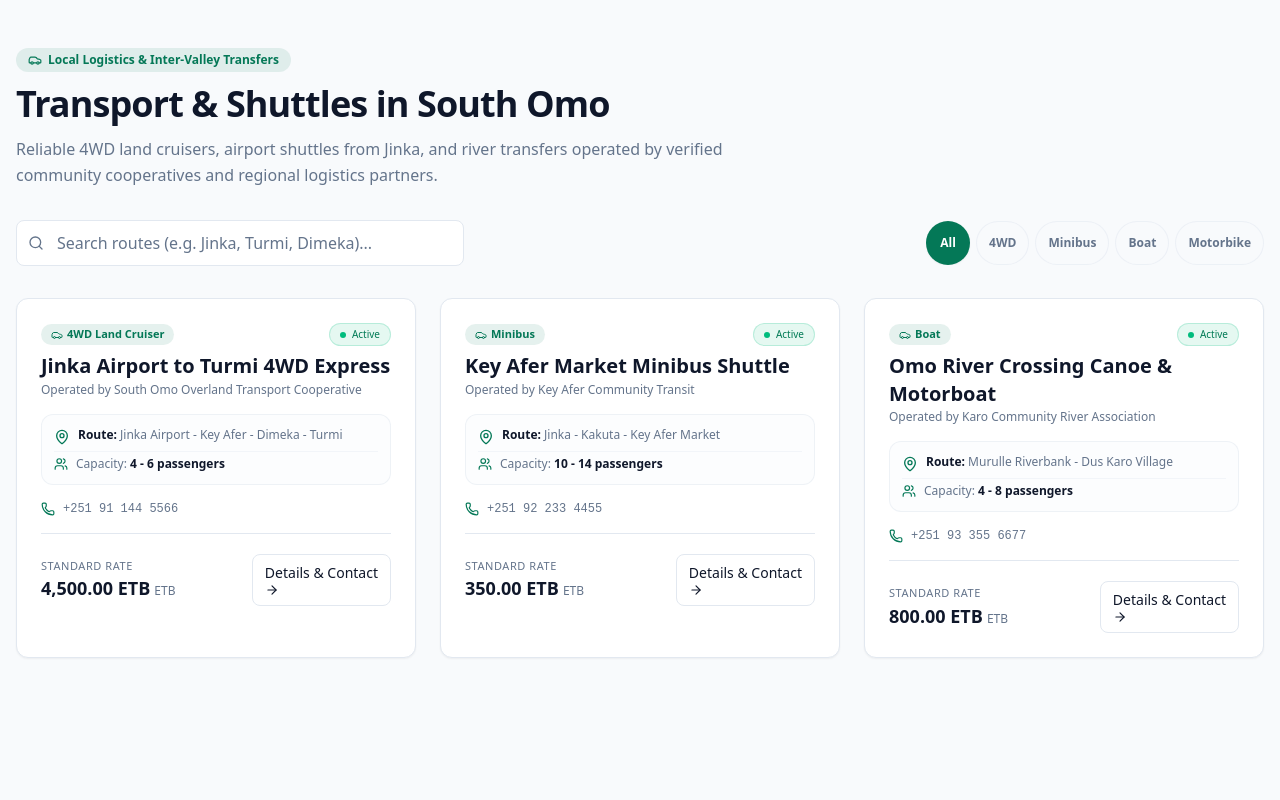
it: Transport services (F-306) › filters transport options by vehicle type chip
This screenshot has width=1280, height=800.
Expected: the heading "Jinka Airport to Turmi 4WD Express" is shown, [41,352,391,380]
Click on 4WD filter
Click the button with test id "filter-vehicle-4wd" at (1003, 243), box [976,221,1030,265]
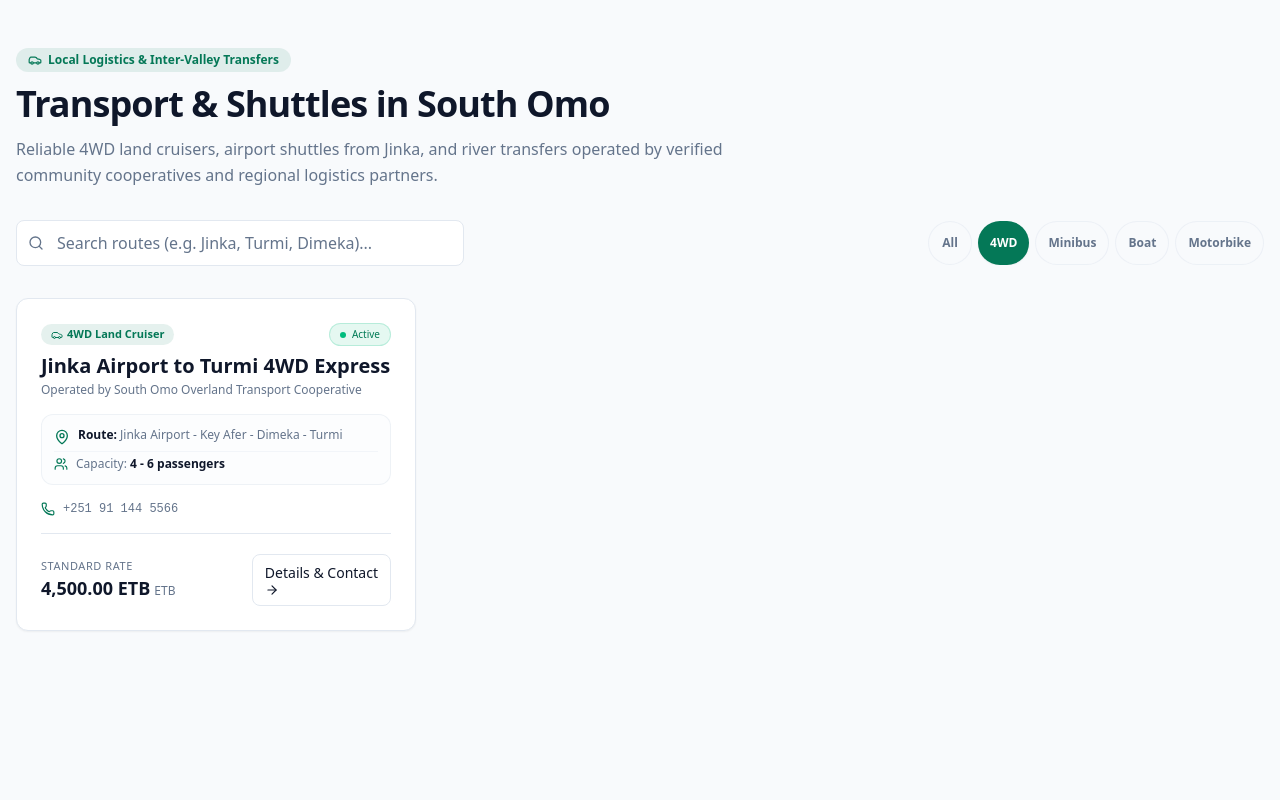
Expected: the heading "Jinka Airport to Turmi 4WD Express" is shown, [41,352,391,380]
Now the heading "Key Afer Market Minibus Shuttle" is gone
Now the heading "Omo River Crossing Canoe & Motorboat" is gone
Click on Minibus filter
Click the button with test id "filter-vehicle-minibus" at (1072, 243), box [1036,221,1110,265]
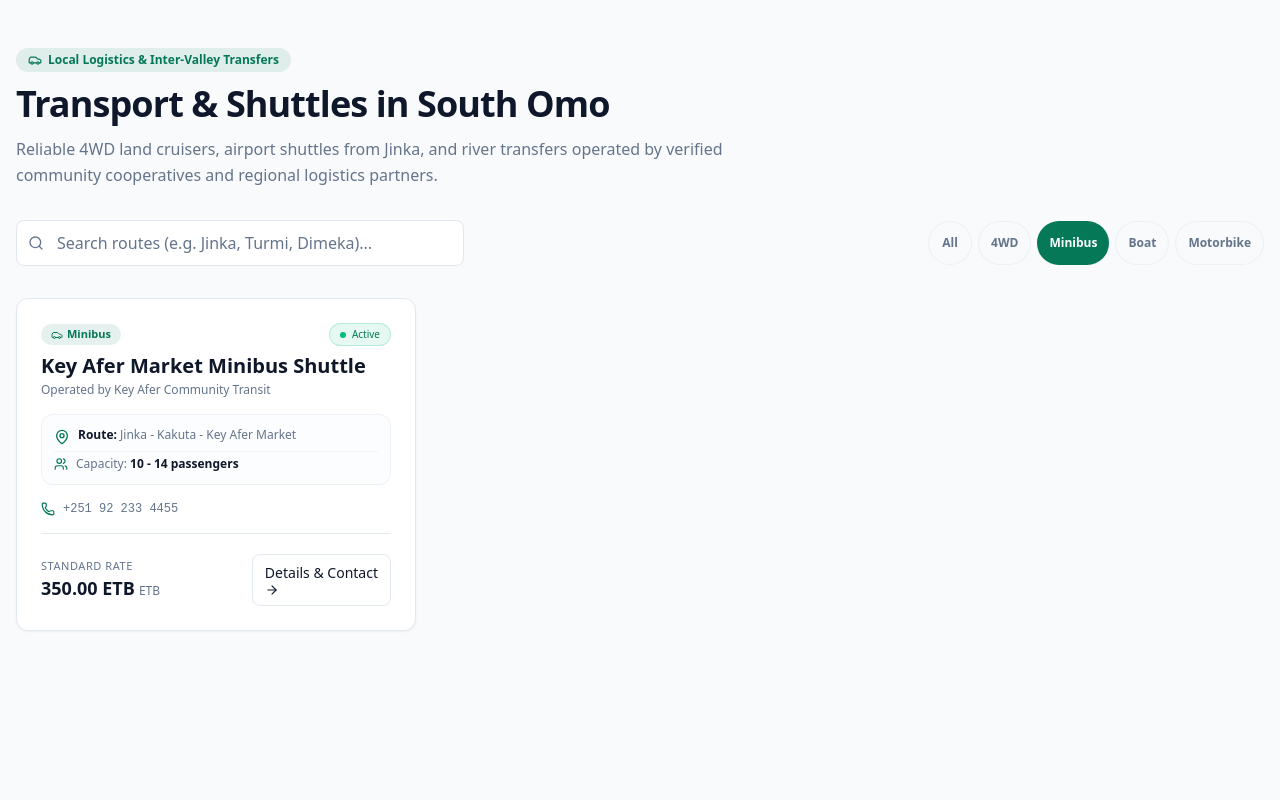
Now the heading "Jinka Airport to Turmi 4WD Express" is gone
Now the heading "Key Afer Market Minibus Shuttle" is shown, box [41,352,391,380]
